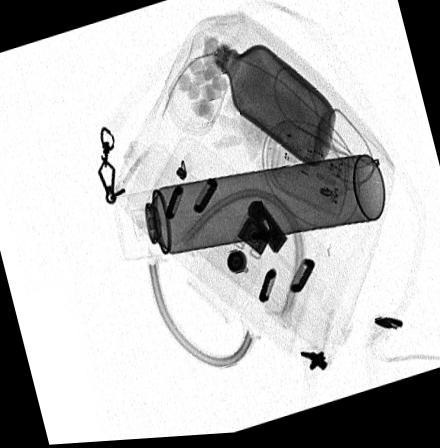Sprayer: (113, 159, 384, 262)
